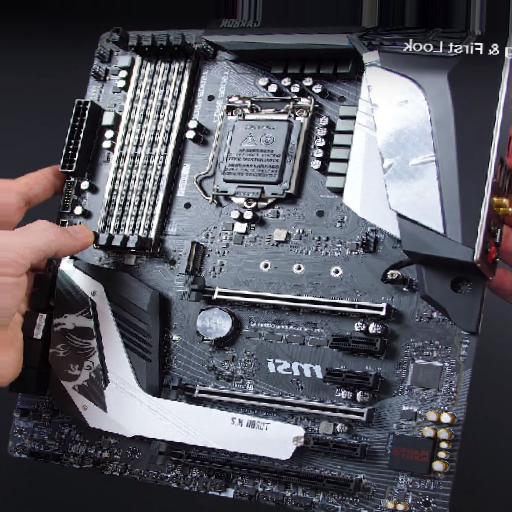CPU: (213, 106, 309, 210)
GPU: (146, 438, 359, 497), (159, 374, 371, 424), (183, 275, 389, 323)
MOTHERBOARD: (18, 18, 505, 502)
RAM: (94, 33, 193, 250)
SSD: (179, 243, 206, 275)
